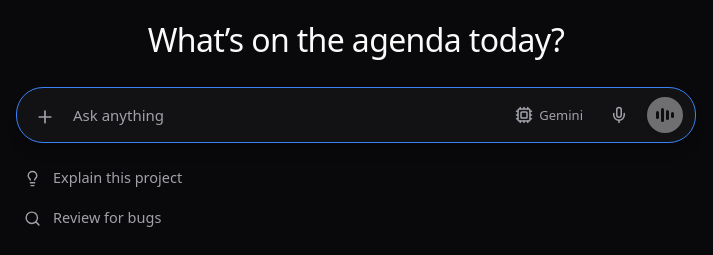
AIThreadStartHero › fills the composer from a quick prompt without sending
Click the button "Explain this project": (103, 178) [24,163,182,193]
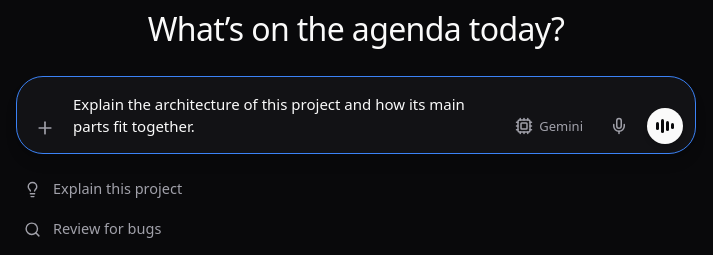
Result: the text box with placeholder "Ask anything" holds "Explain the architecture of this project and how its main parts fit together." at [65,86,503,144]
